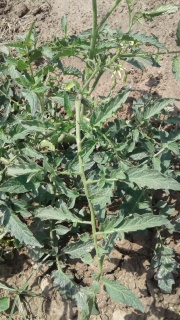tomato flower: (103, 60, 127, 81)
tomato plant: (4, 90, 180, 242)
